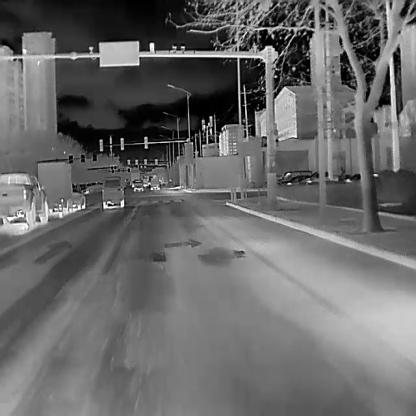car: (0, 171, 48, 234), (101, 176, 124, 210), (299, 170, 341, 184), (276, 168, 312, 184), (148, 176, 160, 190), (133, 178, 143, 192)
truck: (35, 161, 72, 217)
